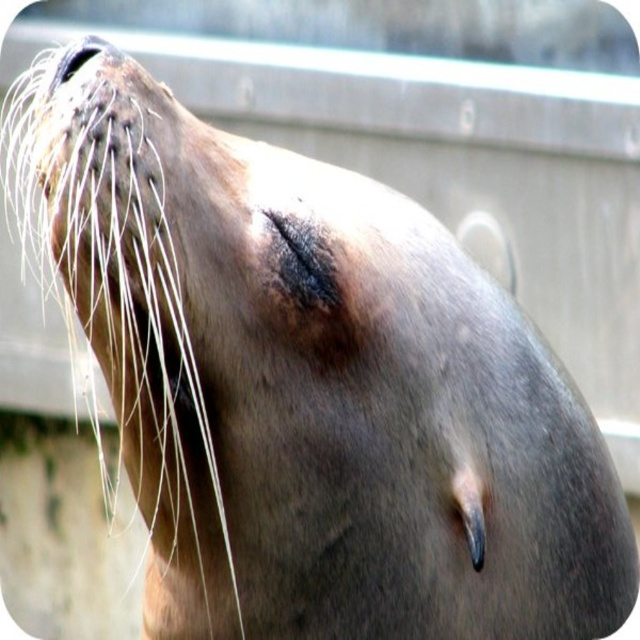Sea lion: (0, 28, 639, 639)
